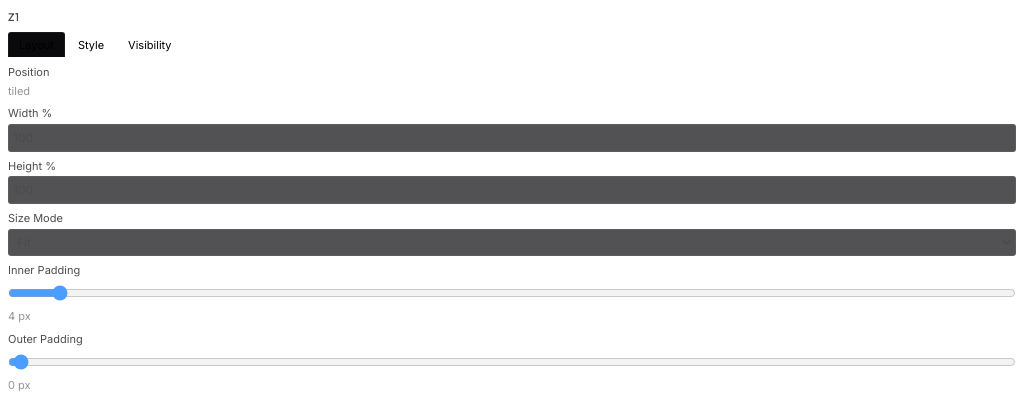
it: ZonePropertiesPanel › shows "always" by default for a zone without a rule
This screenshot has width=1024, height=409.
Click the tab "Visibility" at point(150, 44), box 117,32 -> 183,57
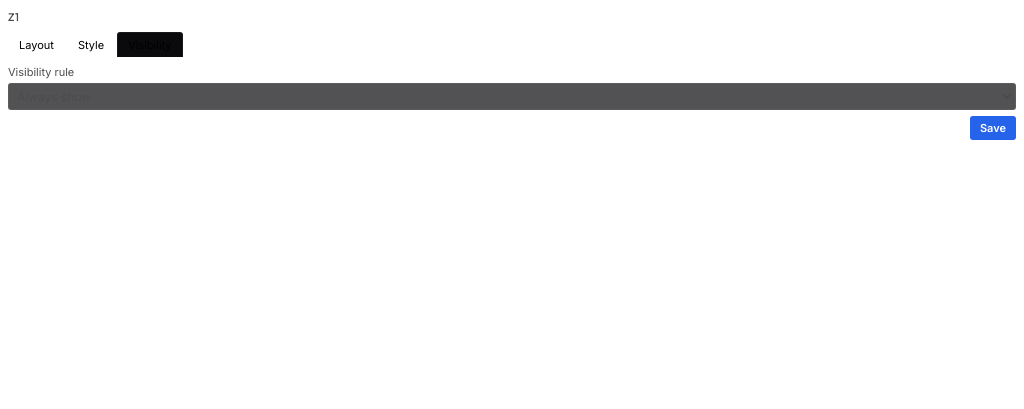
Result: the dropdown labelled "Visibility rule" shows "Always show" at 8,82 -> 1016,110
